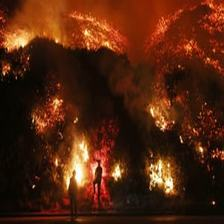fire: (1, 10, 221, 75), (108, 76, 221, 197), (27, 80, 90, 186)
